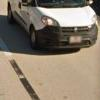Car: (8, 1, 99, 57)
